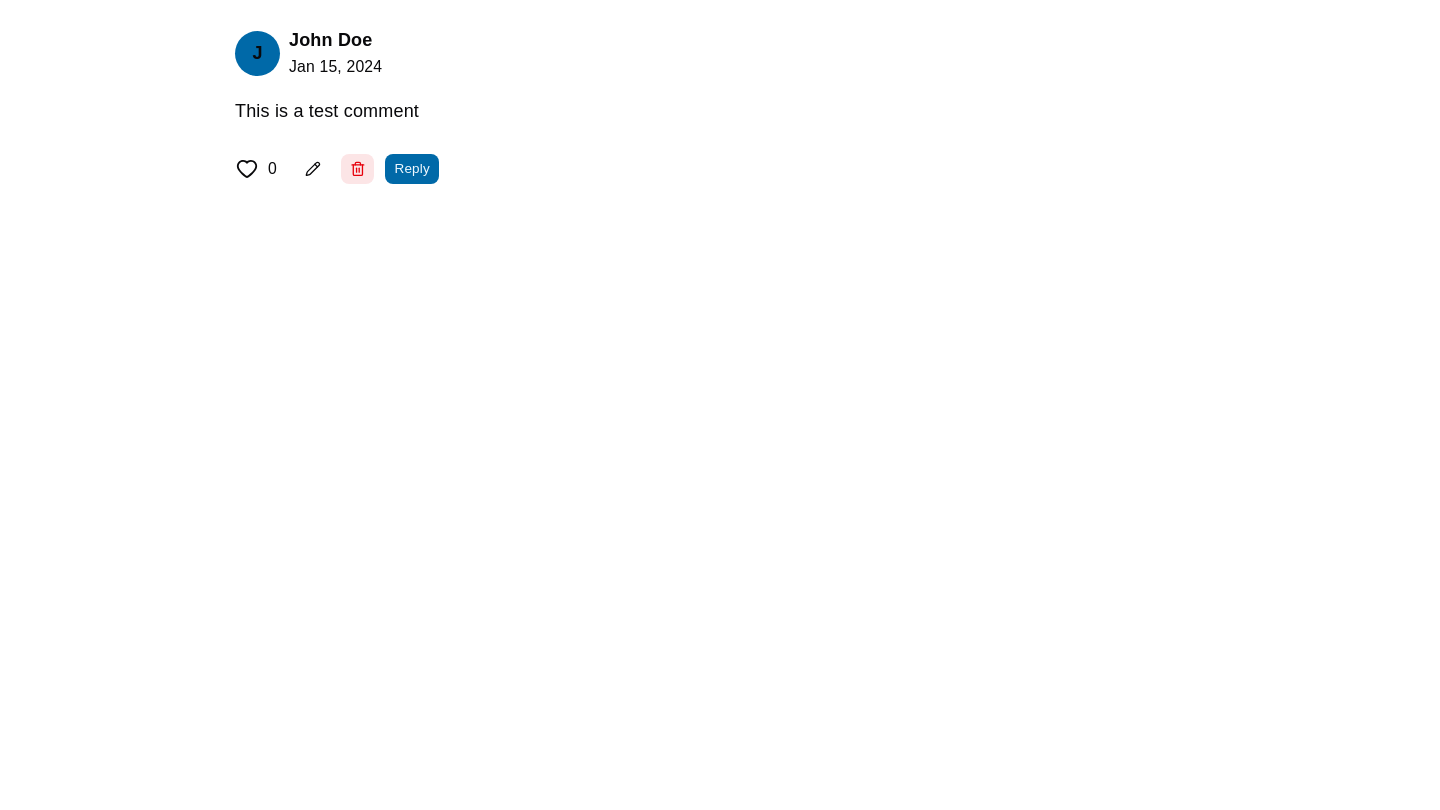
Test: CommentItem › delete modal › should show delete modal when delete button is clicked
The image size is (1440, 810).
Click the 3rd button.
click(358, 169)  # box [340,153,376,185]
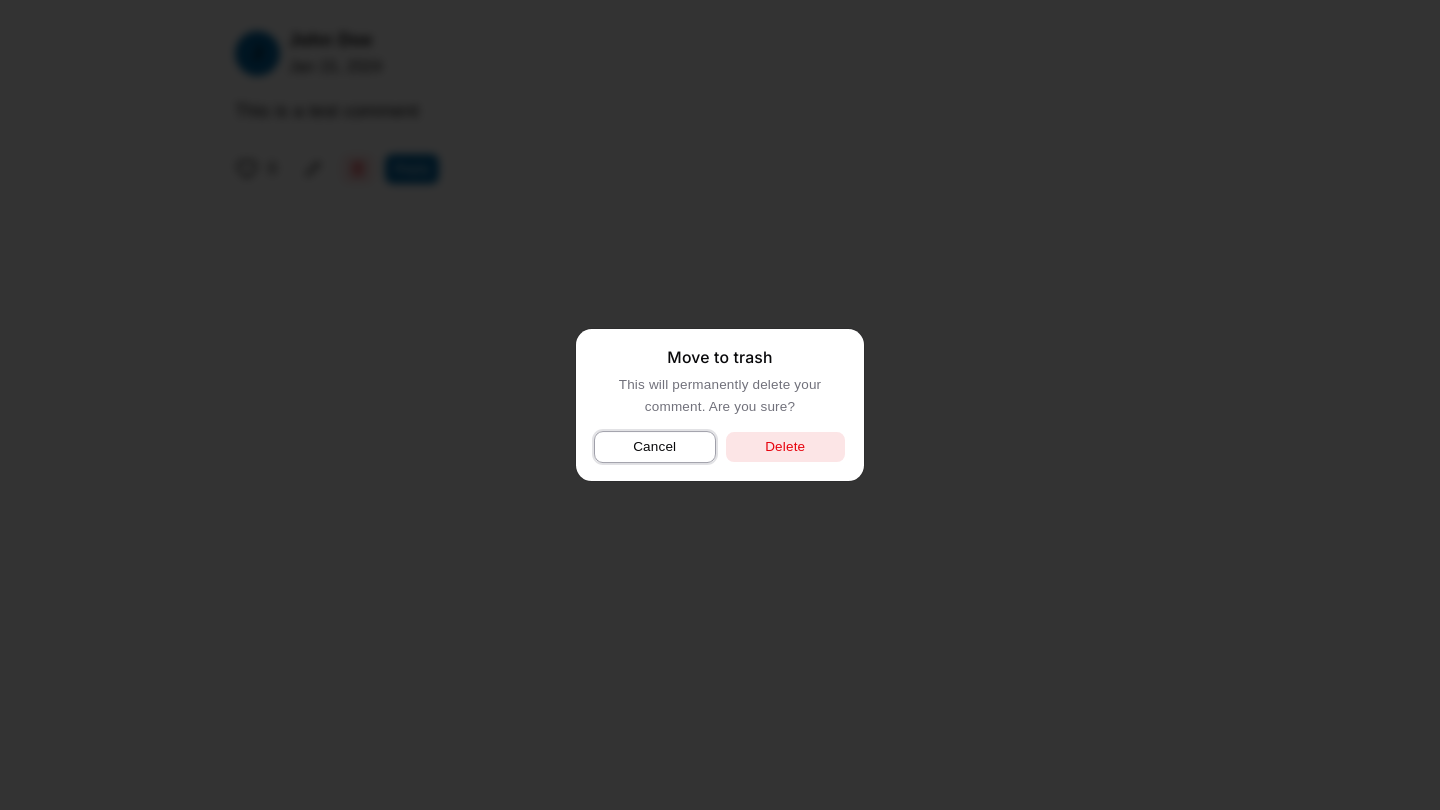
Expected: the heading "Move to trash" is shown, [667,347,773,370]
Expected: the text "This will permanently delete your comment. Are you sure?" is shown, [619,377,821,414]
Expected: the button "Delete" is shown, [724,431,846,463]
